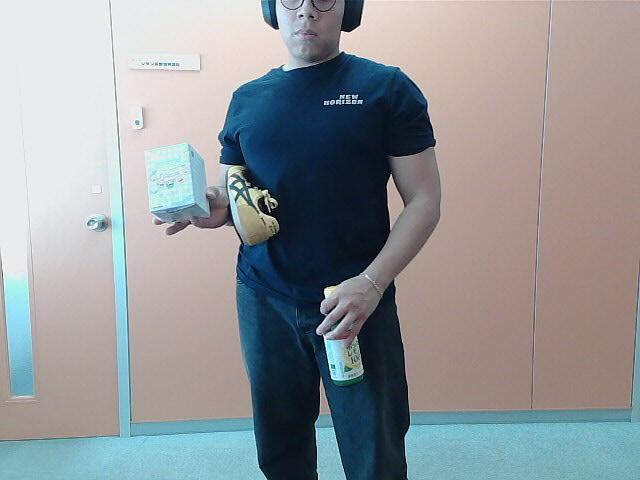Blind_box: (145, 143, 209, 233)
Lemon_sapporo: (315, 283, 370, 385)
Shoes: (223, 160, 281, 241)
